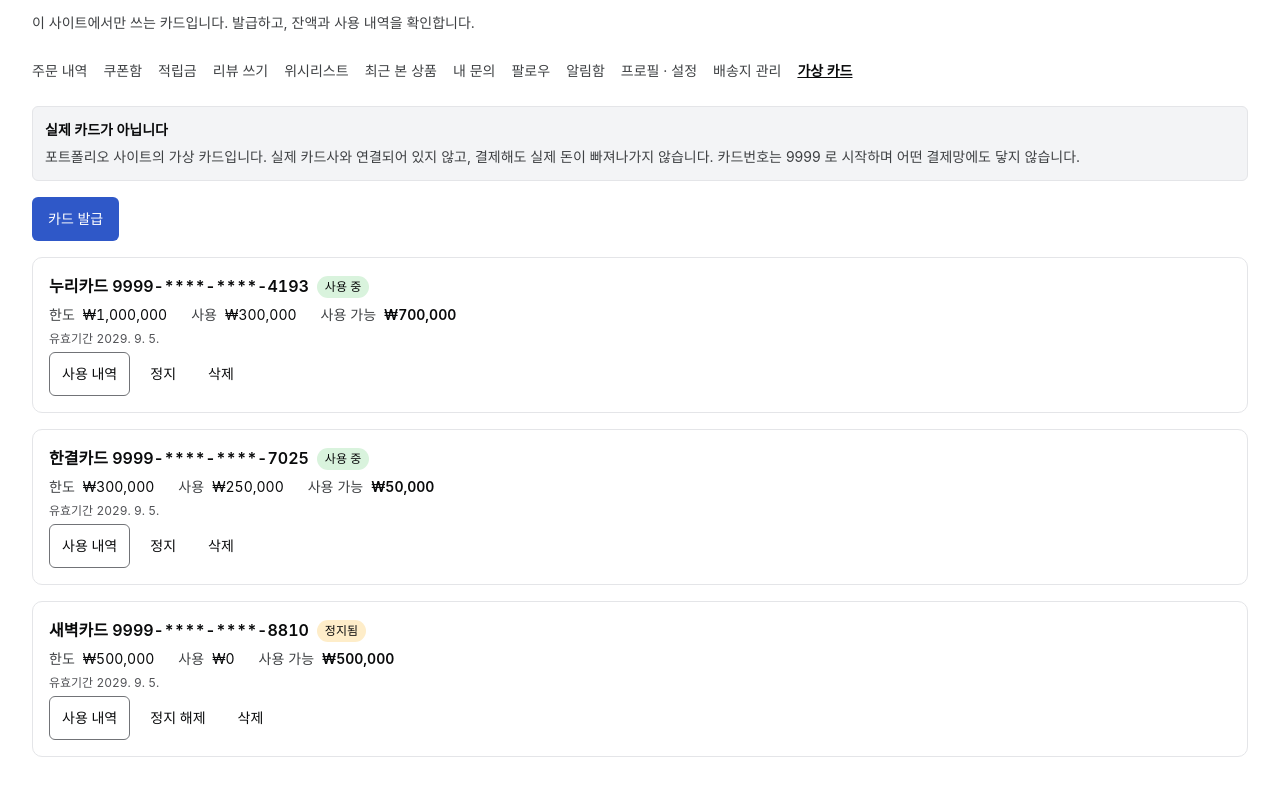
Test: 환불이 돌아온 것 (F4) › says so when a card has never been used
The width and height of the screenshot is (1280, 789).
(page scrolled)
Click the button "사용 내역" below "₩0" at (90, 718), box x1=49 y1=696 x2=130 y2=740
(page scrolled)
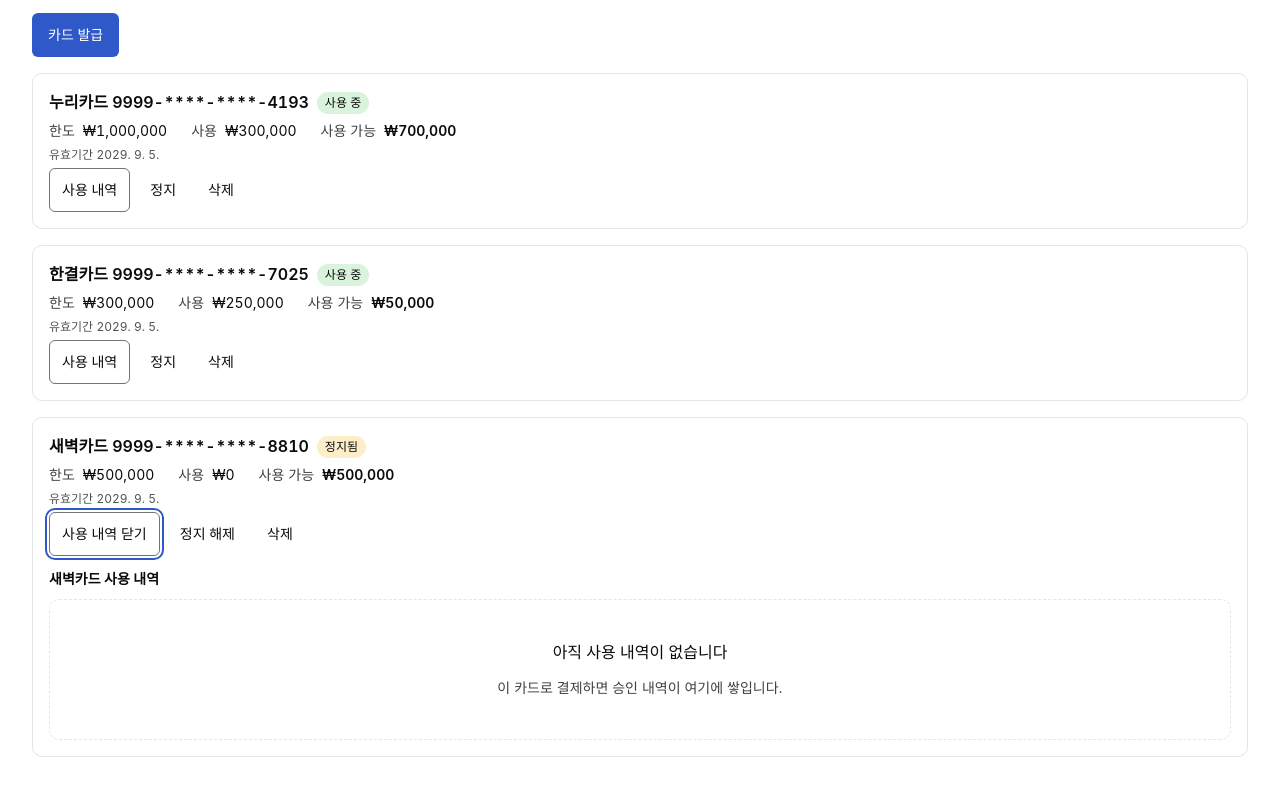
Check: the text "아직 사용 내역이 없습니다" is shown, box x1=553 y1=640 x2=727 y2=665
